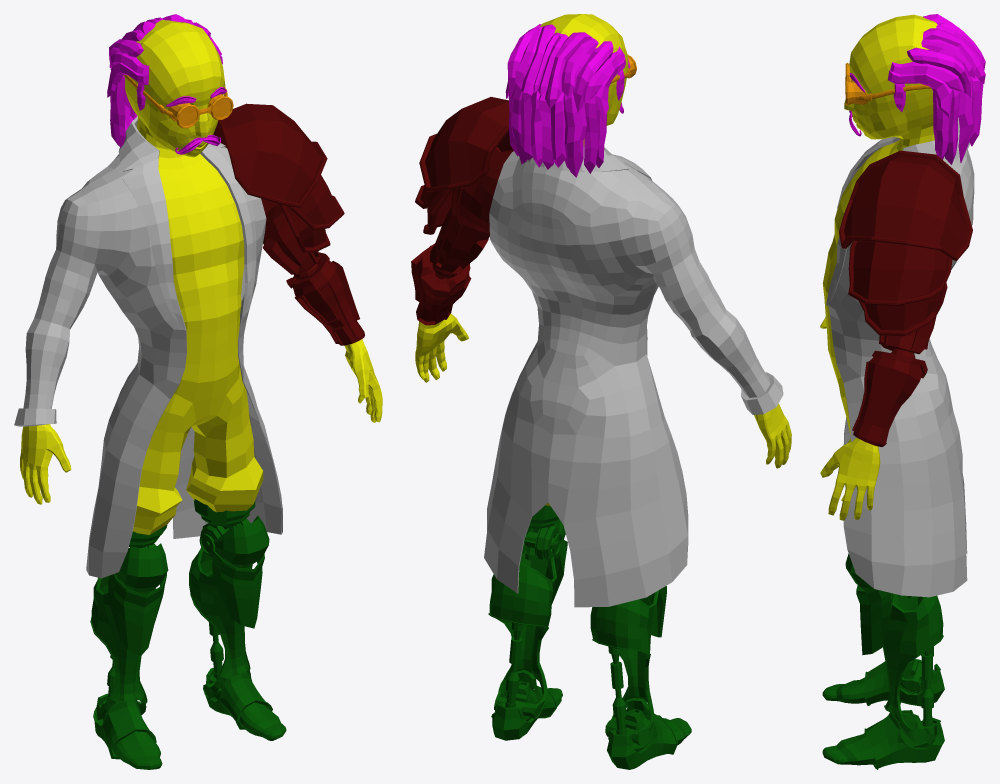
The model's file is prueba.fbx.
3 renders of one model, left to right at view 1: azimuth 30°, elevation 25°; view 2: azimuth 150°, elevation 25°; view 3: azimuth 270°, elevation 25°, orthographic. The views are drawn at different scales.
Parts seen in each view (by area): view 1: obj_hands1; view 2: obj_hands1; view 3: obj_hands1.
Part boxes in pixels (left/top/right/bottom): obj_hands1: left=14, top=14, right=382, bottom=769; obj_hands1: left=411, top=14, right=791, bottom=769; obj_hands1: left=820, top=14, right=985, bottom=769.
Size of the model in its own units: 91.6 by 175 by 36.87.
